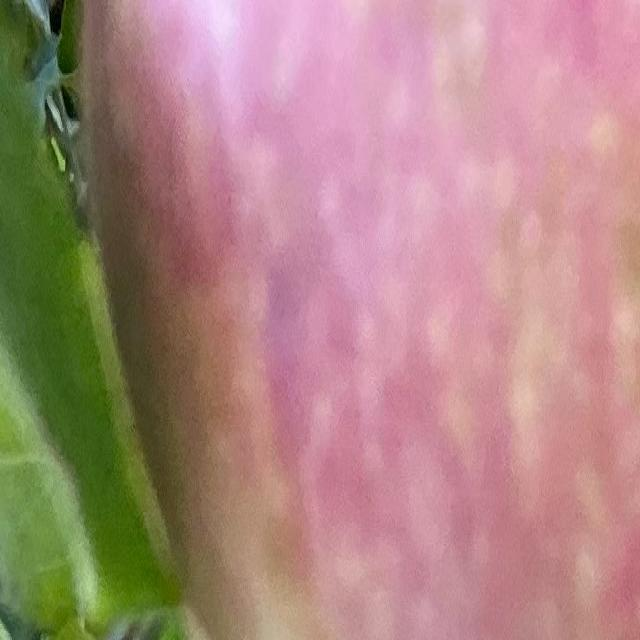Apples: (91, 0, 639, 638)
